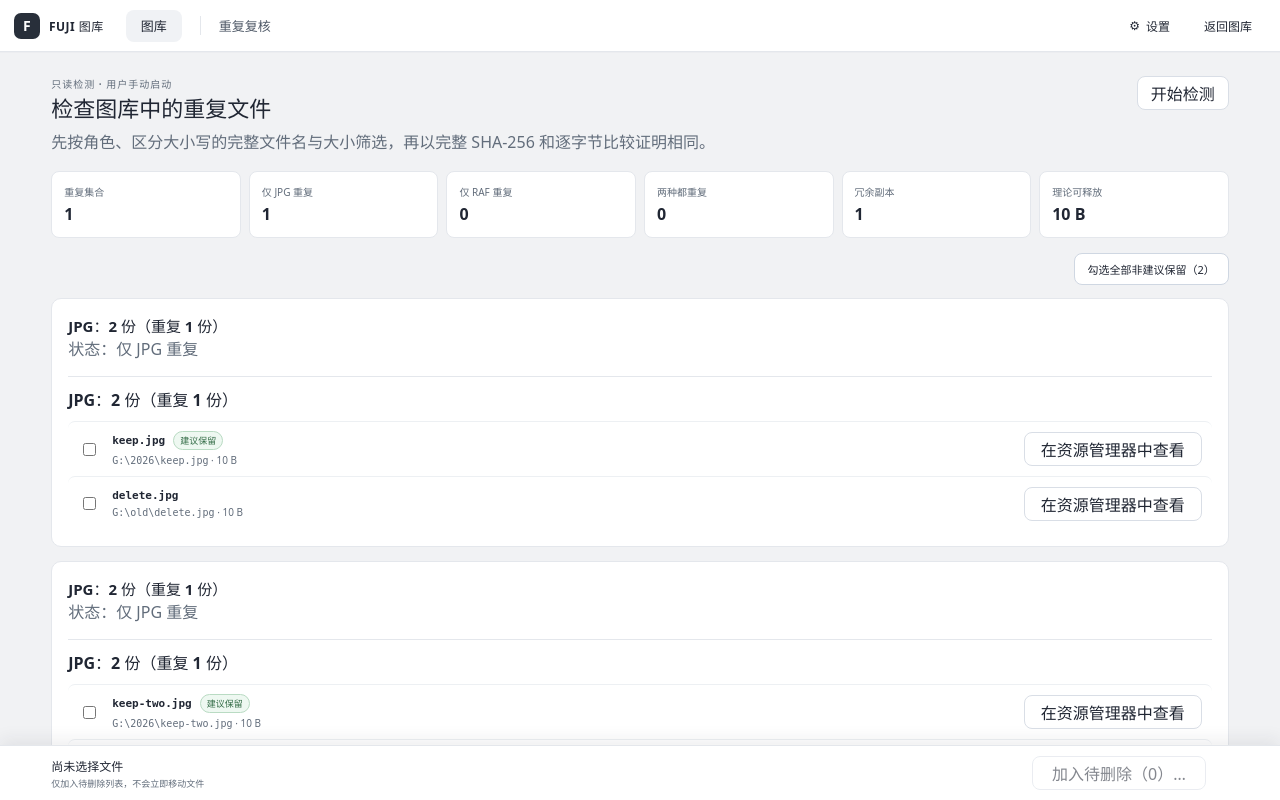
Scenario: DuplicateReviewView › bulk selects every non-suggested file and toggles back to no selection
The width and height of the screenshot is (1280, 800).
What coordinates should you click on to do the following:
click the button "勾选全部非建议保留（2）"
I would click on:
 (1151, 269)
Its box is [1074, 253, 1229, 285].
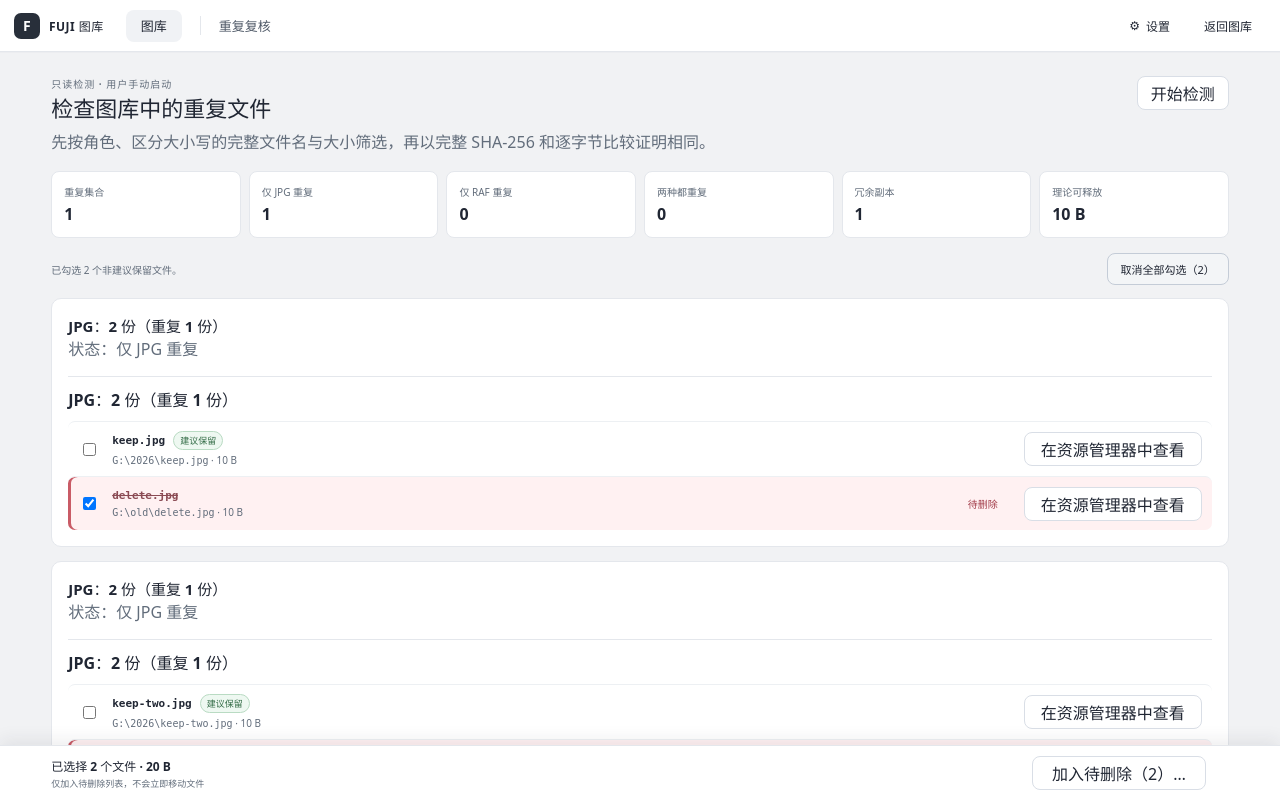
Result: the checkbox named "取消 G:\\old\\delete.jpg" is checked at [83, 497, 96, 510]
What coordinates should you click on to do the following:
click the button "取消全部勾选（2）"
I would click on:
 (1168, 269)
Its box is [1106, 253, 1229, 285].
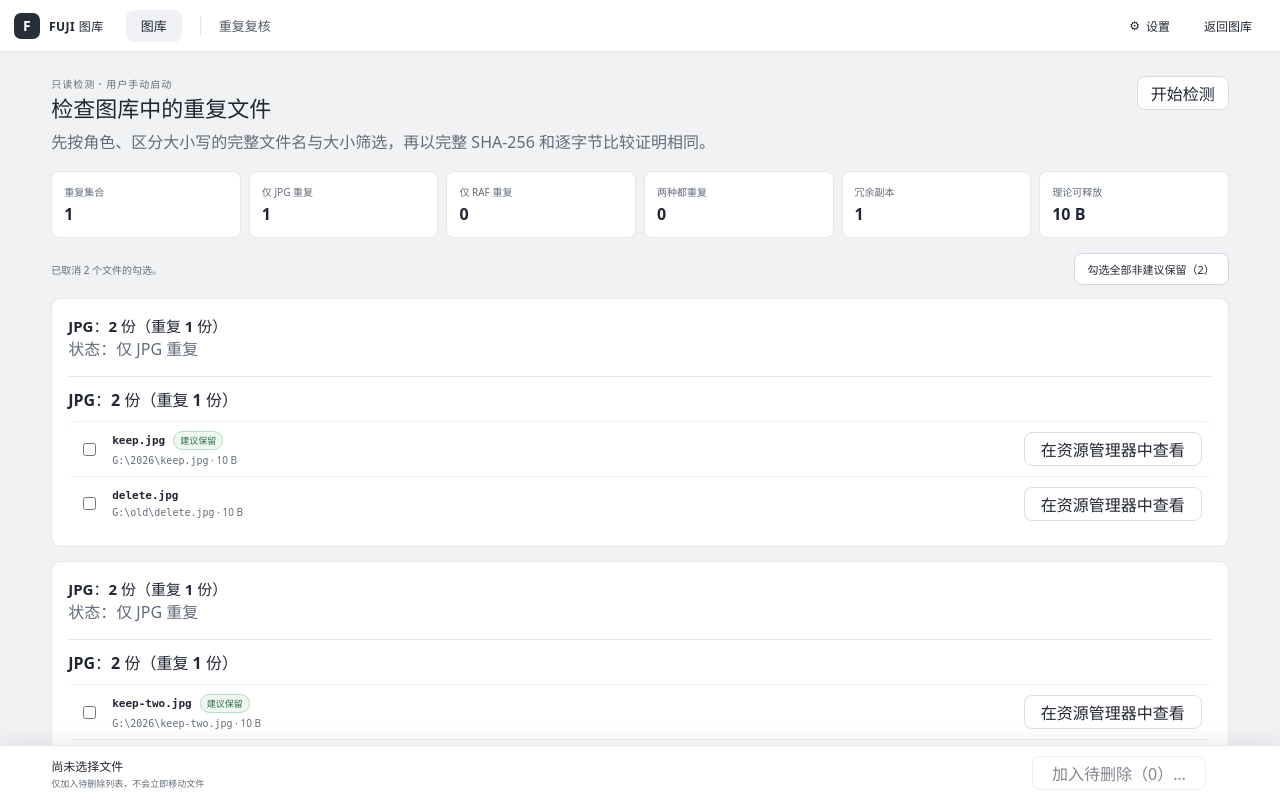
Result: the text "尚未选择文件" is shown at [51, 758, 123, 774]
